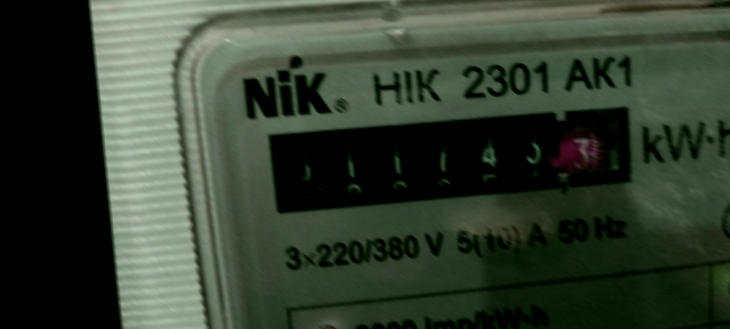0: (289, 143, 315, 184), (339, 138, 361, 180)
1: (386, 134, 406, 177)
3: (521, 124, 545, 168), (570, 132, 593, 172)
4: (476, 128, 500, 170)
7: (429, 129, 456, 175)
screen: (248, 84, 645, 229)
